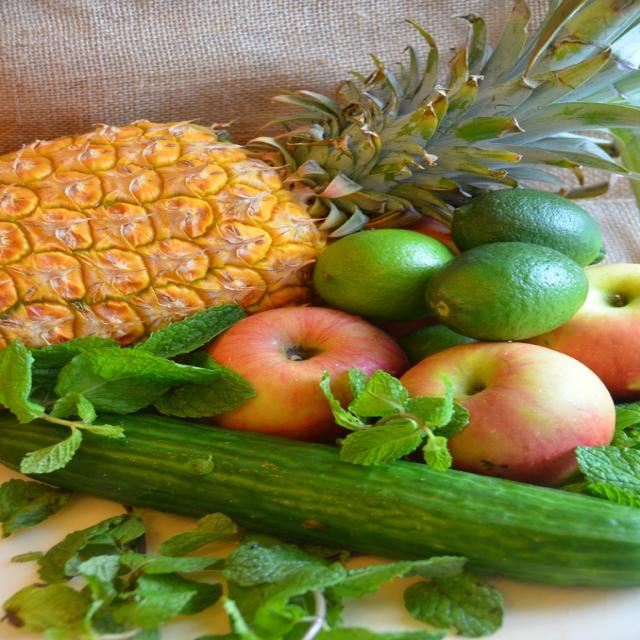Lemon: (425, 240, 592, 340), (317, 229, 458, 319), (451, 187, 608, 265)
